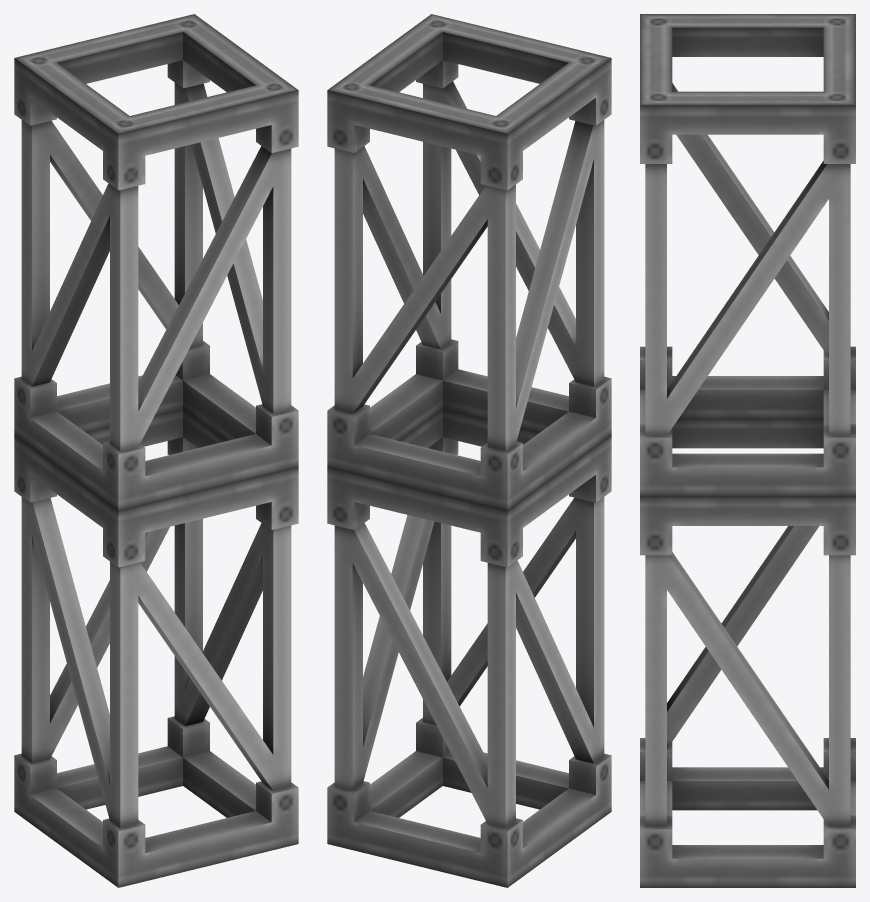
File: sofora_truss_srf_1.obj
3 views of the same model, side by side, from view 1: azimuth 30°, elevation 25°; view 2: azimuth 150°, elevation 25°; view 3: azimuth 270°, elevation 25° (orthographic). The views are drawn at different scales.
Parts seen in each view (by area): view 1: mesh1; view 2: mesh1; view 3: mesh1.
Boxes of the visible parts, x1,y1,x2,y2 form: mesh1: (14,14,298,887); mesh1: (327,14,611,887); mesh1: (640,14,855,887).
Bounding box in the file's own units: 0.25 × 1 × 0.25.
Materials: 1 (1 with a texture image).
